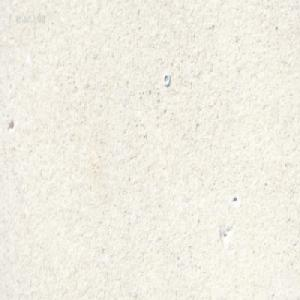Washer: (162, 72, 170, 86)
